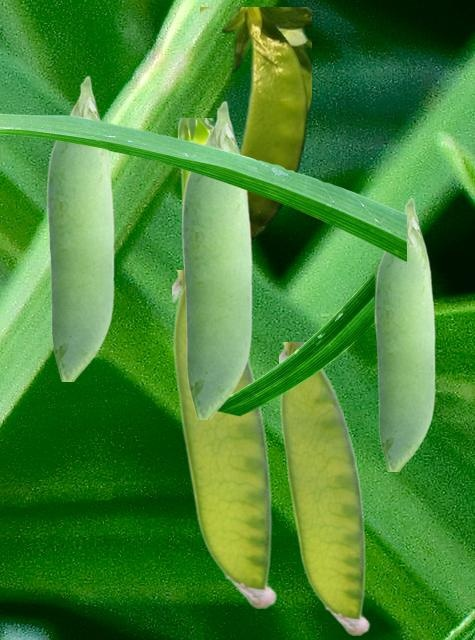pea: (172, 270, 276, 607), (279, 342, 369, 634), (200, 7, 310, 243), (181, 100, 251, 418), (46, 75, 113, 380), (374, 197, 434, 470), (178, 118, 215, 269)
